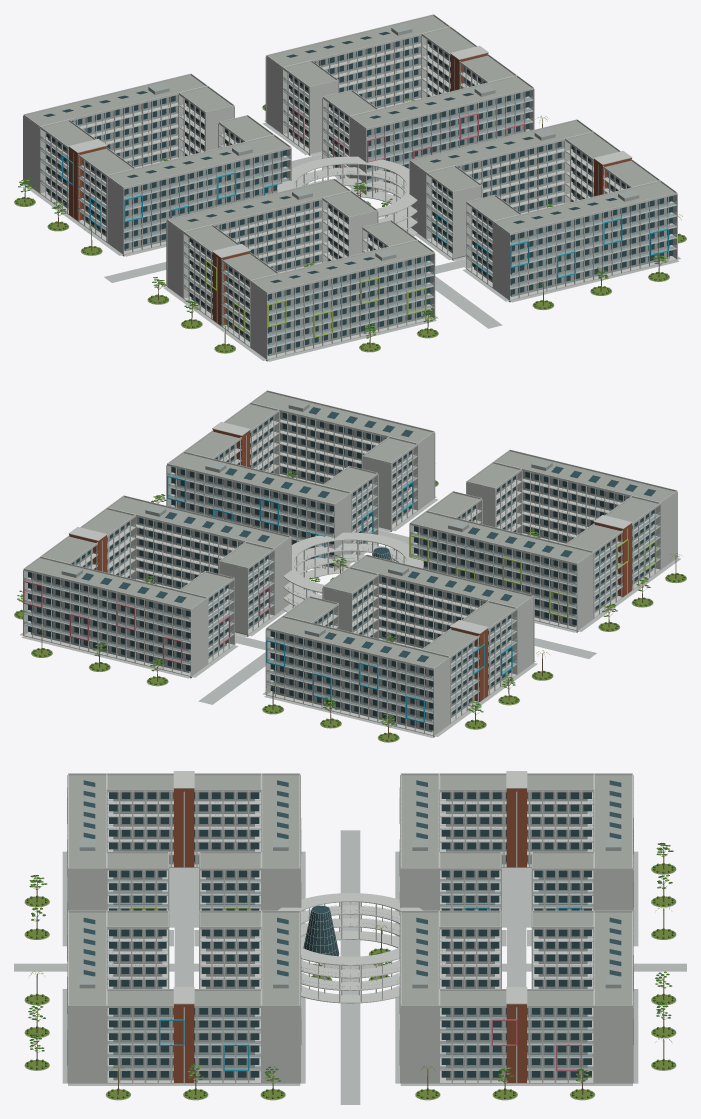
Rendered from dorm52-lod2.glb.
3 renders of one model, top to bottom at view 1: azimuth 30°, elevation 25°; view 2: azimuth 150°, elevation 25°; view 3: azimuth 270°, elevation 25°, orthographic. The views are drawn at different scales.
Visible parts, largest first — view 1: white balcony slabs and piers | ivory metal.002, recessed dormitory rooms | room plaster.002, flat roofs and parapets | roof.002, recessed windows | window.002, private balcony glass panels | glass rail.002, open gallery metal balustrades | gallery rail.002, continuous courtyard paving | pale paving.002, three level open shared ring slabs | ivory metal.002, red brick stair cores | brick.002, two storey coloured balcony frames | cyan.002, courtyard and perimeter planted lawns | lawn.002, roof collector arrays | window.002 (+4 smaller); view 2: white balcony slabs and piers | ivory metal.002, recessed dormitory rooms | room plaster.002, flat roofs and parapets | roof.002, recessed windows | window.002, private balcony glass panels | glass rail.002, open gallery metal balustrades | gallery rail.002, continuous courtyard paving | pale paving.002, three level open shared ring slabs | ivory metal.002, roof collector arrays | window.002, red brick stair cores | brick.002, courtyard and perimeter planted lawns | lawn.002, two storey coloured balcony frames | cyan.002 (+5 smaller); view 3: white balcony slabs and piers | ivory metal.002, flat roofs and parapets | roof.002, recessed windows | window.002, recessed dormitory rooms | room plaster.002, continuous courtyard paving | pale paving.002, three level open shared ring slabs | ivory metal.002, private balcony glass panels | glass rail.002, red brick stair cores | brick.002, open gallery metal balustrades | gallery rail.002, courtyard and perimeter planted lawns | lawn.002, roof collector arrays | window.002, low courtyard hedges | hedge.002 (+8 smaller).
Part boxes in pixels (left/top/right/bottom): white balcony slabs and piers | ivory metal.002: left=23, top=14, right=677, bottom=359; recessed dormitory rooms | room plaster.002: left=47, top=24, right=669, bottom=355; flat roofs and parapets | roof.002: left=26, top=16, right=674, bottom=292; recessed windows | window.002: left=46, top=36, right=672, bottom=354; private balcony glass panels | glass rail.002: left=40, top=77, right=676, bottom=347; open gallery metal balustrades | gallery rail.002: left=40, top=42, right=676, bottom=347; continuous courtyard paving | pale paving.002: left=20, top=120, right=680, bottom=361; three level open shared ring slabs | ivory metal.002: left=277, top=156, right=417, bottom=236; red brick stair cores | brick.002: left=69, top=53, right=631, bottom=325; two storey coloured balcony frames | cyan.002: left=62, top=155, right=668, bottom=278; courtyard and perimeter planted lawns | lawn.002: left=14, top=104, right=686, bottom=353; roof collector arrays | window.002: left=43, top=32, right=617, bottom=282; white balcony slabs and piers | ivory metal.002: left=23, top=390, right=677, bottom=735; recessed dormitory rooms | room plaster.002: left=31, top=400, right=653, bottom=732; flat roofs and parapets | roof.002: left=26, top=392, right=674, bottom=668; recessed windows | window.002: left=28, top=412, right=654, bottom=730; private balcony glass panels | glass rail.002: left=24, top=453, right=660, bottom=723; open gallery metal balustrades | gallery rail.002: left=24, top=418, right=660, bottom=723; continuous courtyard paving | pale paving.002: left=20, top=496, right=680, bottom=737; three level open shared ring slabs | ivory metal.002: left=283, top=532, right=423, bottom=612; roof collector arrays | window.002: left=81, top=407, right=655, bottom=662; red brick stair cores | brick.002: left=69, top=429, right=631, bottom=701; courtyard and perimeter planted lawns | lawn.002: left=14, top=480, right=686, bottom=742; two storey coloured balcony frames | cyan.002: left=167, top=476, right=512, bottom=722; white balcony slabs and piers | ivory metal.002: left=67, top=771, right=633, bottom=1083; flat roofs and parapets | roof.002: left=69, top=775, right=631, bottom=1005; recessed windows | window.002: left=109, top=792, right=591, bottom=1077; recessed dormitory rooms | room plaster.002: left=79, top=792, right=621, bottom=1080; continuous courtyard paving | pale paving.002: left=14, top=830, right=686, bottom=1104; three level open shared ring slabs | ivory metal.002: left=278, top=893, right=422, bottom=1003; private balcony glass panels | glass rail.002: left=107, top=879, right=593, bottom=1069; red brick stair cores | brick.002: left=174, top=788, right=526, bottom=1082; open gallery metal balustrades | gallery rail.002: left=108, top=800, right=592, bottom=1069; courtyard and perimeter planted lawns | lawn.002: left=25, top=864, right=675, bottom=1099; roof collector arrays | window.002: left=83, top=780, right=621, bottom=976; low courtyard hedges | hedge.002: left=26, top=863, right=674, bottom=1098.
Bounding box in the file's own units: 168 × 23.41 × 174.
